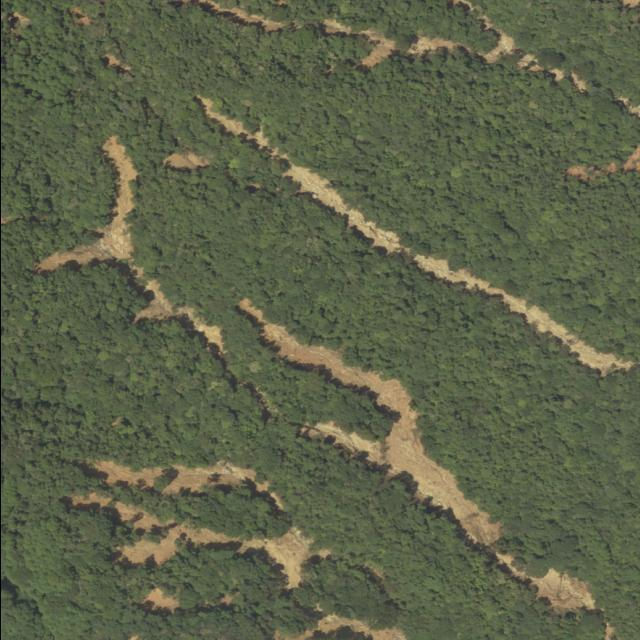landslide: (194, 95, 635, 377), (237, 300, 596, 614), (34, 137, 223, 356), (67, 494, 330, 590), (320, 14, 564, 81), (81, 462, 281, 510), (170, 0, 284, 32), (274, 612, 404, 640)
